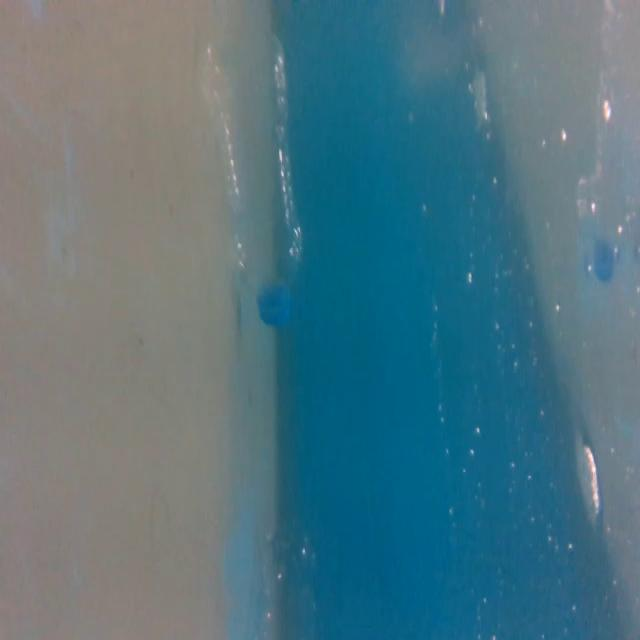plastic bottle: (194, 28, 326, 330)
